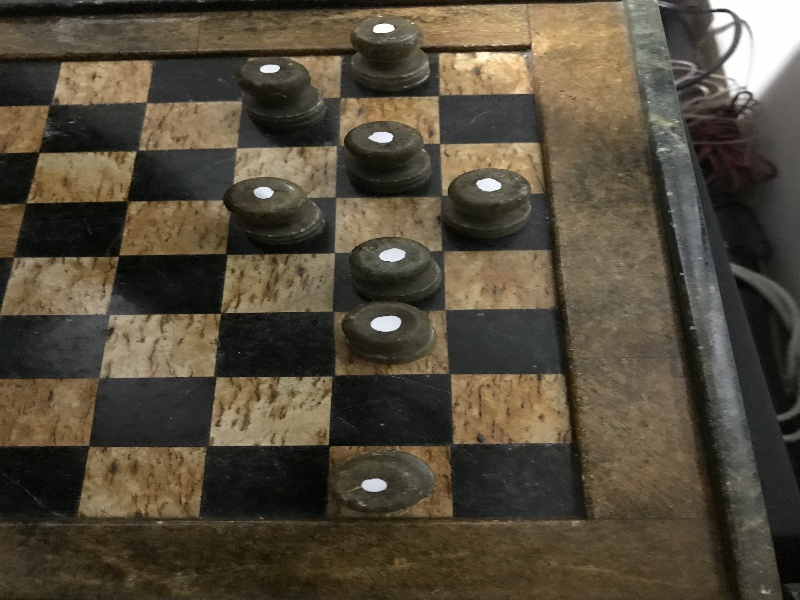WhitePawn: (239, 58, 328, 133), (225, 177, 325, 243), (332, 451, 435, 512), (346, 122, 431, 193), (447, 169, 531, 239), (350, 18, 431, 90), (349, 237, 442, 299), (343, 300, 435, 361)
